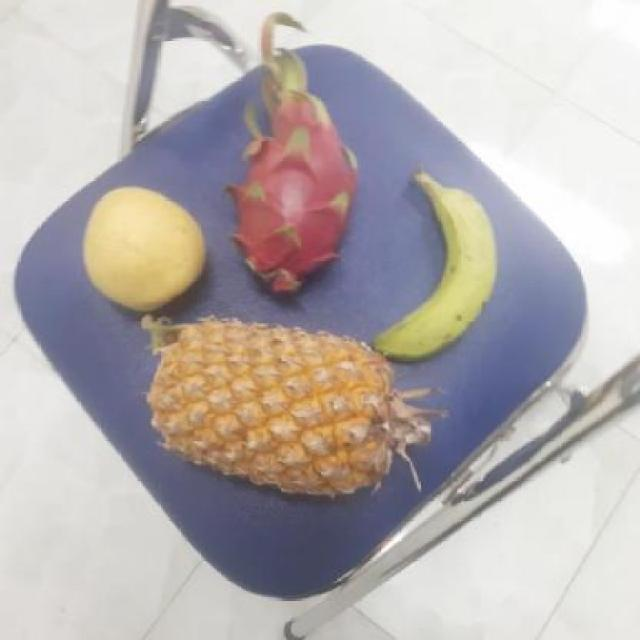banana: (376, 165, 504, 357)
dragon fruit: (220, 147, 360, 287)
guava: (82, 186, 213, 311)
pineapple: (157, 327, 425, 496)
